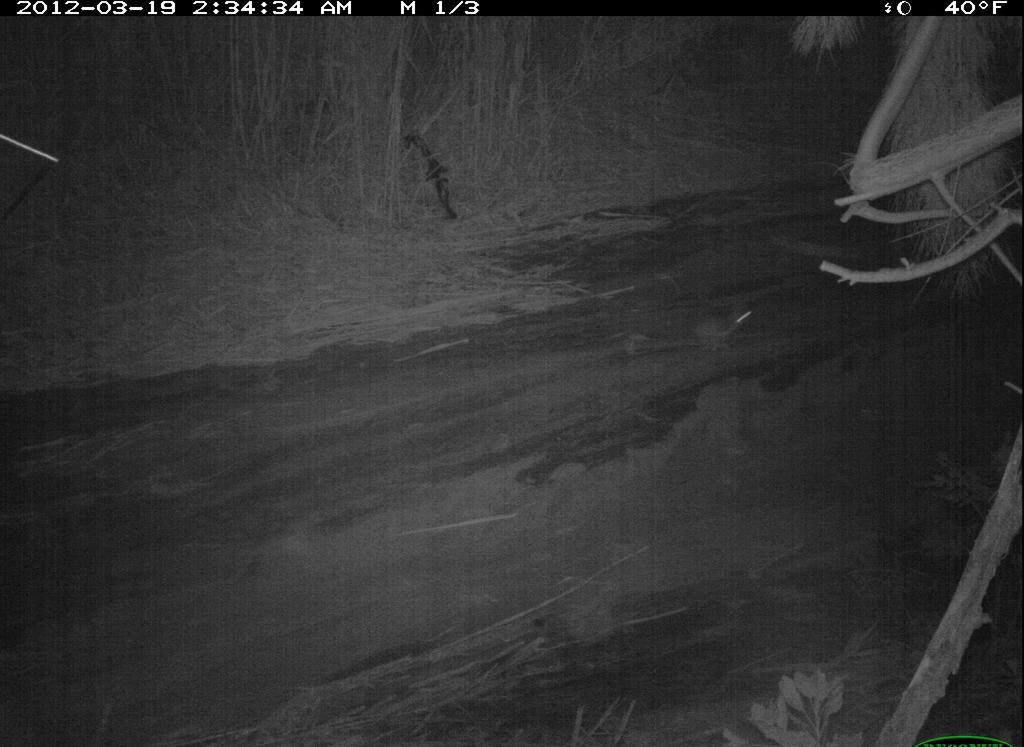rabbit: (684, 285, 776, 372)
